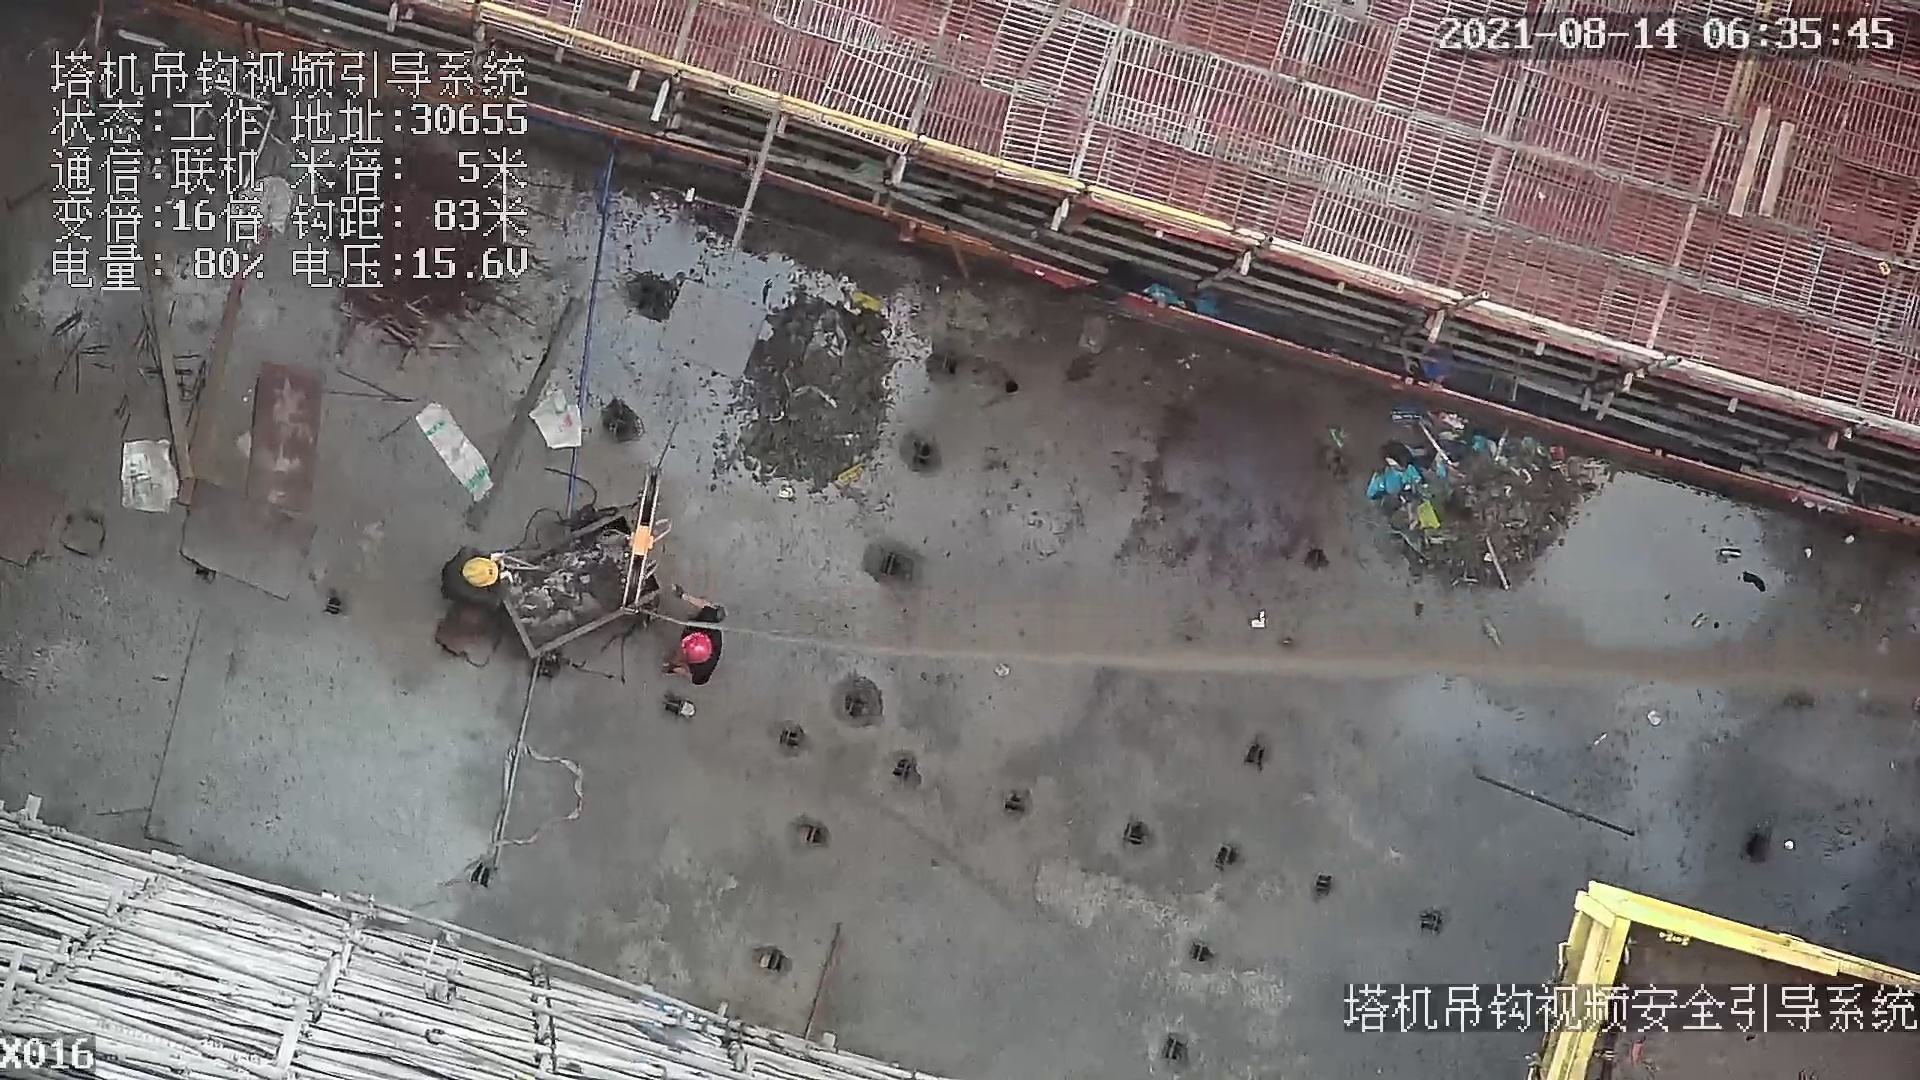helmet: (673, 632, 719, 669), (460, 556, 503, 591)
hook: (615, 454, 678, 621)
hopper: (503, 489, 674, 691)
person: (431, 542, 520, 614), (663, 604, 735, 686)
